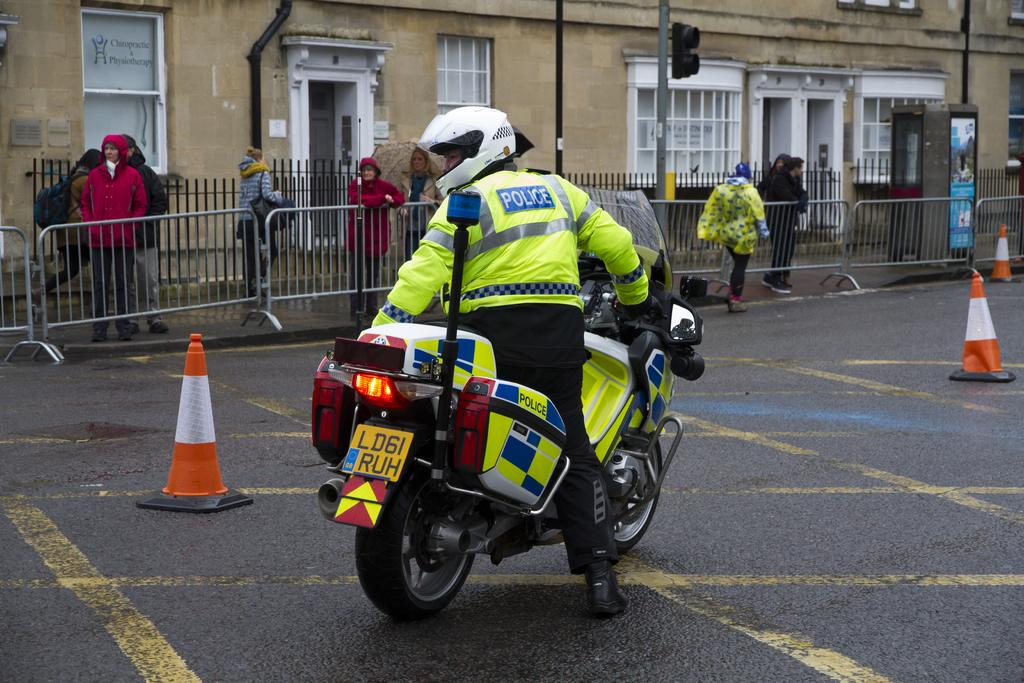helmet: (417, 106, 516, 199)
nohelmet: (72, 147, 106, 175), (101, 134, 128, 165), (410, 146, 431, 173), (358, 156, 378, 182), (735, 161, 752, 187), (786, 156, 805, 178), (247, 147, 265, 168)
